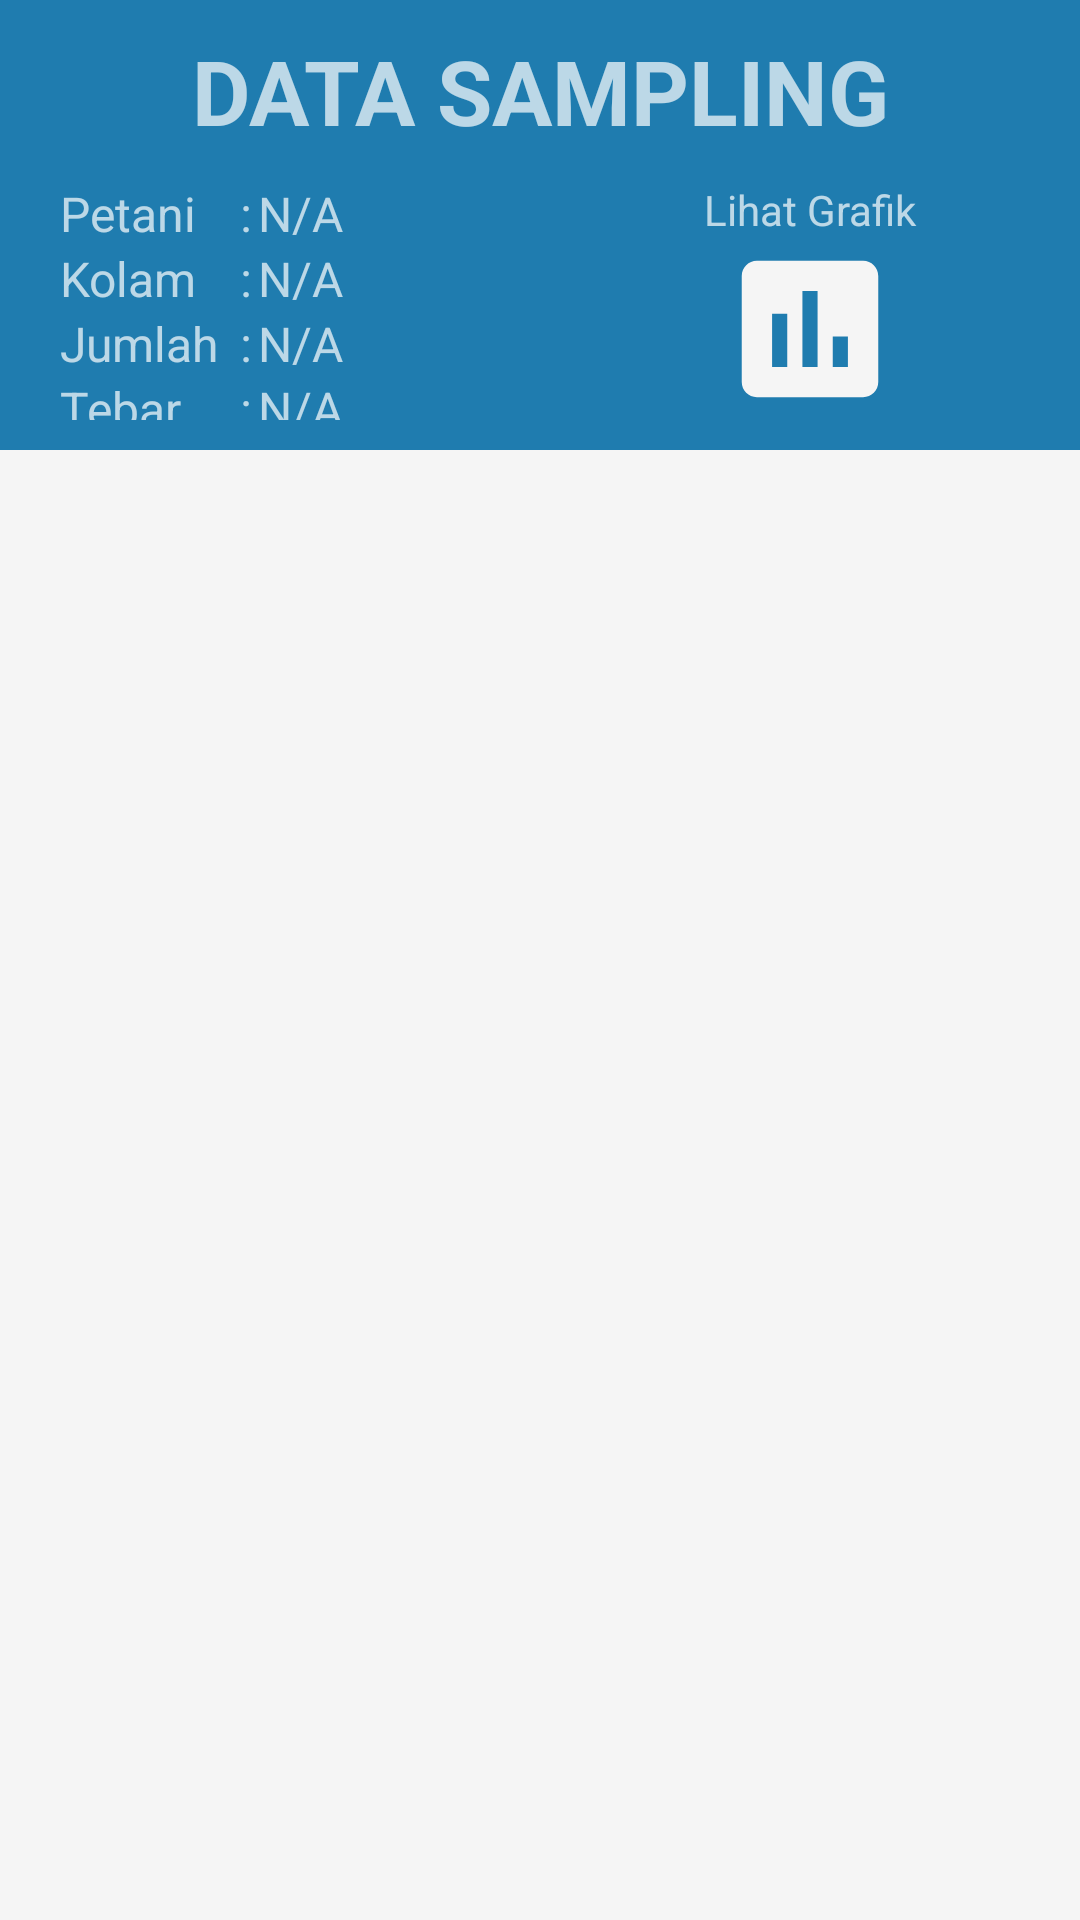

Icons on this 1080px×1920px Android screen, each with the point to tap as [x,y]:
insert chart: [810,329]
